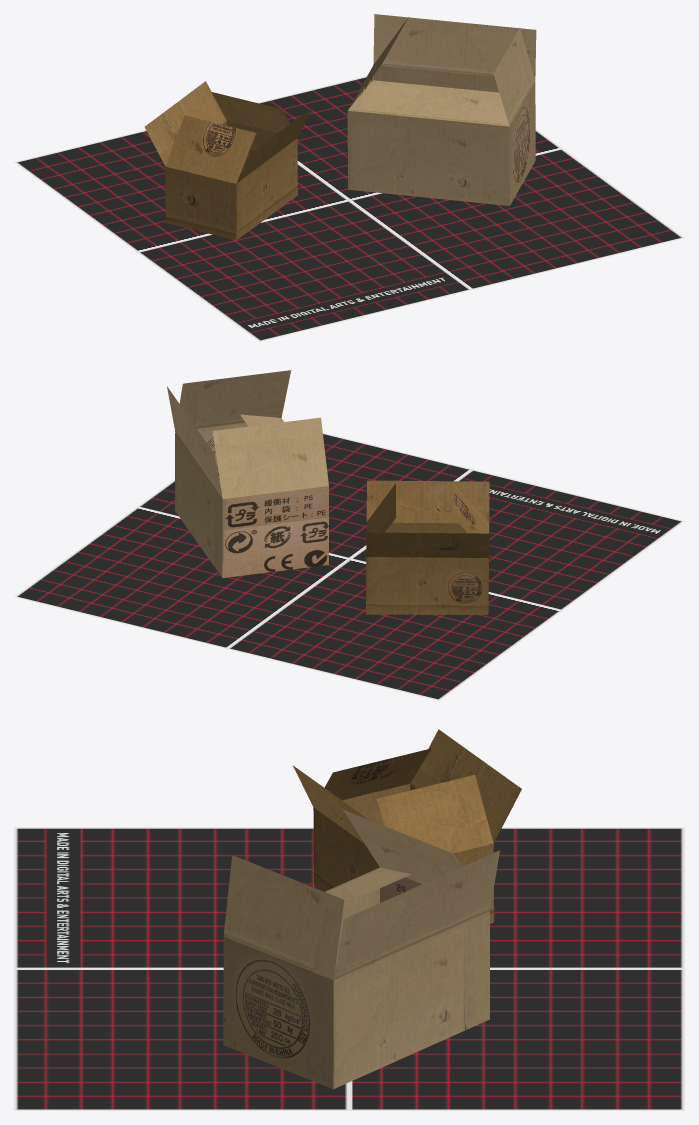
The model's file is boxes.fbx.
3 renders of one model, top to bottom at view 1: azimuth 30°, elevation 25°; view 2: azimuth 150°, elevation 25°; view 3: azimuth 270°, elevation 25°, orthographic. The views are drawn at different scales.
Parts seen in each view (by area): view 1: floor_grid, box 1, box 2; view 2: floor_grid, box 1, box 2; view 3: floor_grid, box 1, box 2.
Part boxes in pixels (bbox=[...]): floor_grid: bbox=[14, 76, 684, 341]; box 1: bbox=[347, 14, 536, 205]; box 2: bbox=[144, 81, 312, 240]; floor_grid: bbox=[14, 433, 684, 700]; box 1: bbox=[167, 370, 328, 578]; box 2: bbox=[366, 480, 489, 614]; floor_grid: bbox=[14, 827, 684, 1110]; box 1: bbox=[223, 809, 499, 1089]; box 2: bbox=[293, 729, 521, 923].
Size of the model in its own units: 200 by 60.88 by 200.
3 materials, 3 textured.
